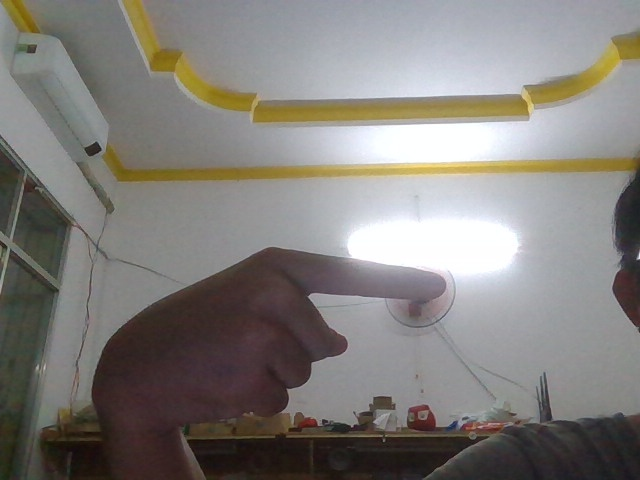turn_left: (82, 235, 459, 434)
